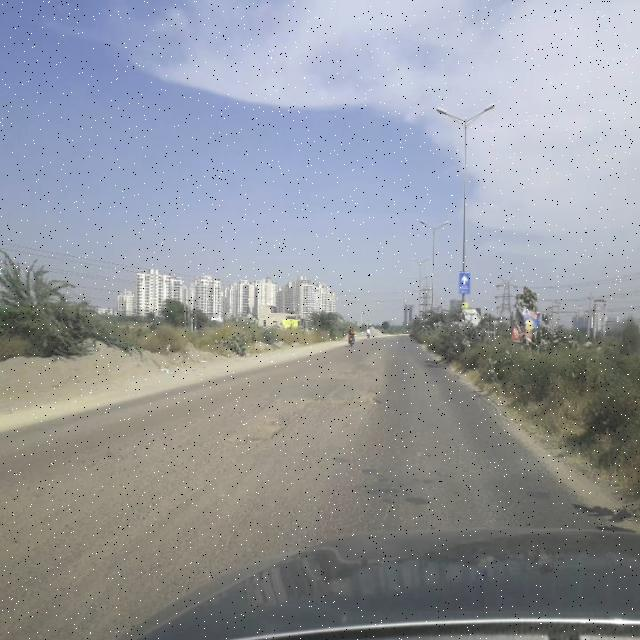D00: (145, 387, 337, 522)
D20: (14, 383, 508, 549)
D40: (286, 382, 382, 418), (210, 412, 290, 452)
